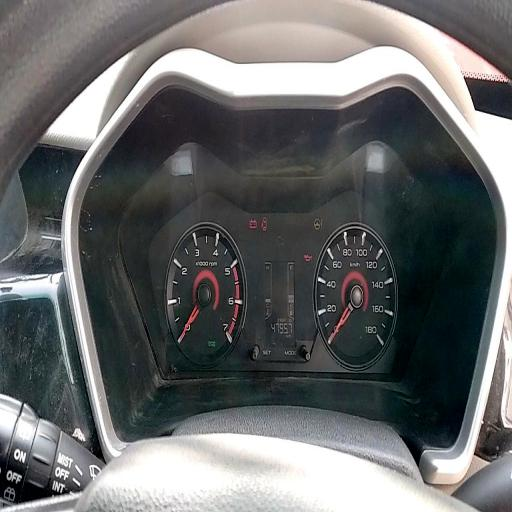oil: (304, 254, 313, 262)
tachometer: (165, 222, 247, 366)
vehicle_charging: (250, 219, 258, 229)
